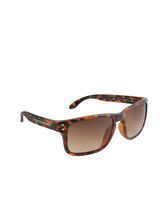glasses: (18, 88, 152, 160)
